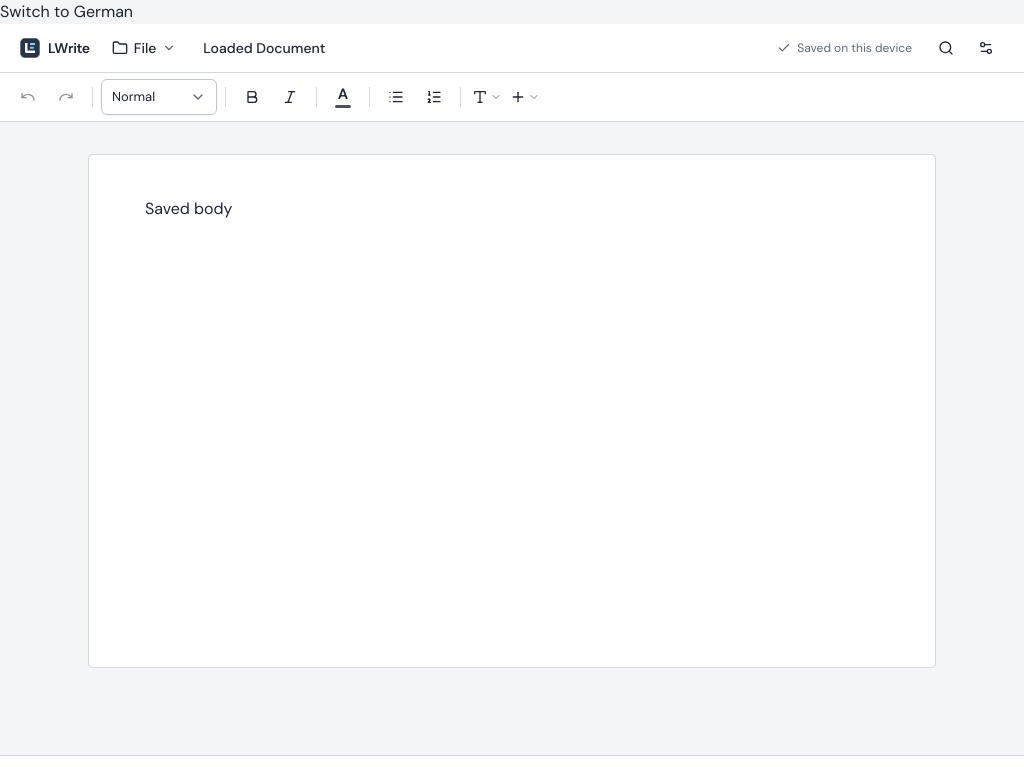
Test case: RichTextEditor › loads the current local document into the editor shell
Expected: the field named "Document name" holds "Loaded Document", [194,30,546,66]
Expected: the field named "Document editor" reads "Saved body", [145,198,232,219]
// The real lazy toolbar also needs its first module transform on a cold test run.
Click the button named "Insert" at (525, 97), box [507,79,543,115]
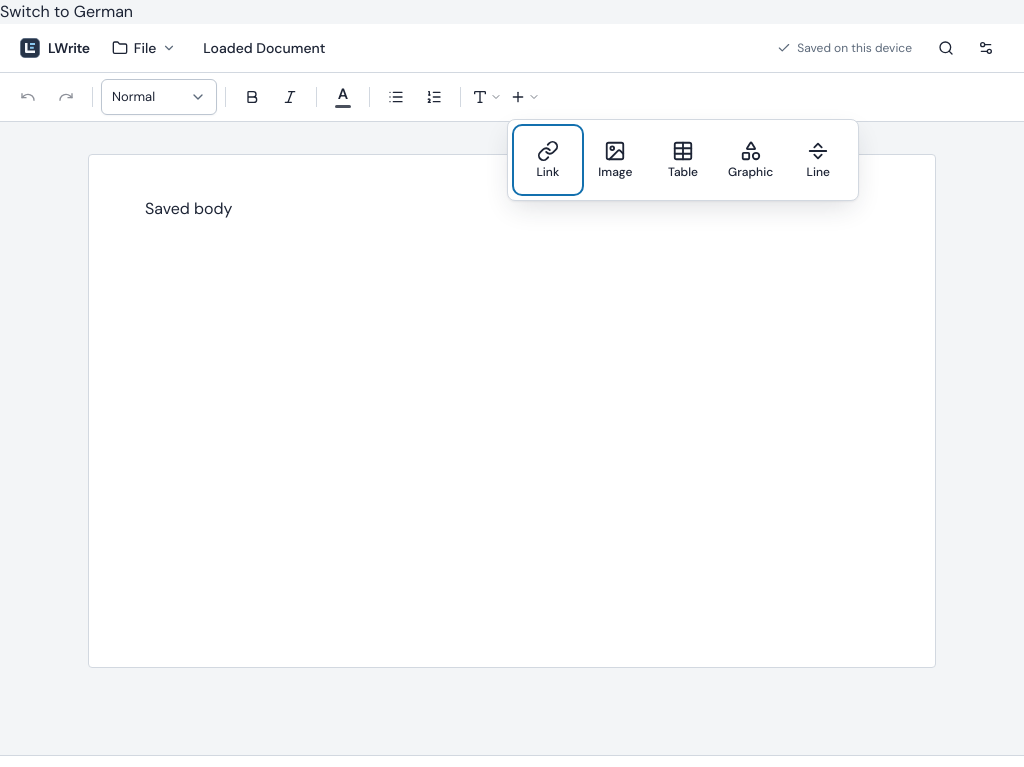
Result: the button with aria-label "Insert table" is shown at [651,128,715,192]
Result: the button with aria-label "Insert graphic" is shown at [719,128,782,192]
